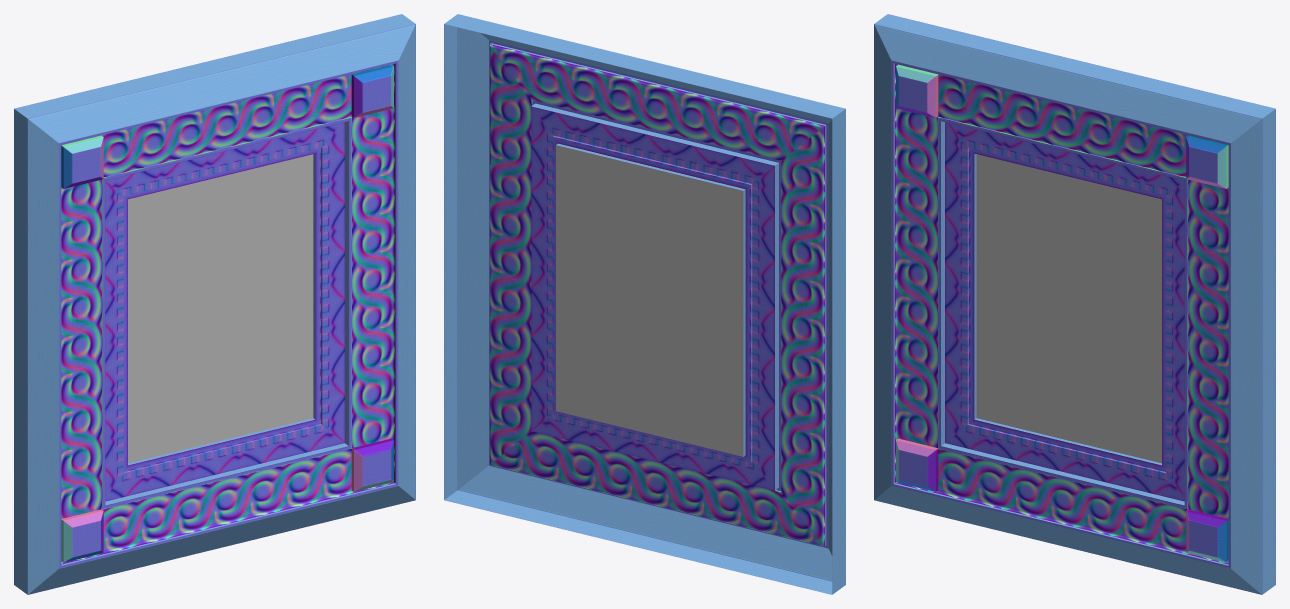
The picture shows the model from 3 angles, left to right: view 1: azimuth 30°, elevation 25°; view 2: azimuth 150°, elevation 25°; view 3: azimuth 330°, elevation 25°; orthographic projection.
Parts seen in each view (by area): view 1: _09_07_frame, _09_07; view 2: _09_07_frame, _09_07; view 3: _09_07_frame, _09_07.
Part boxes in pixels (x1,y1,x2,y2): _09_07_frame: (14, 14, 415, 594); _09_07: (128, 154, 313, 463); _09_07_frame: (444, 14, 845, 594); _09_07: (556, 145, 743, 456); _09_07_frame: (874, 14, 1275, 594); _09_07: (976, 154, 1161, 463).
Bounding box in the file's own units: 58 × 68 × 6.12.
